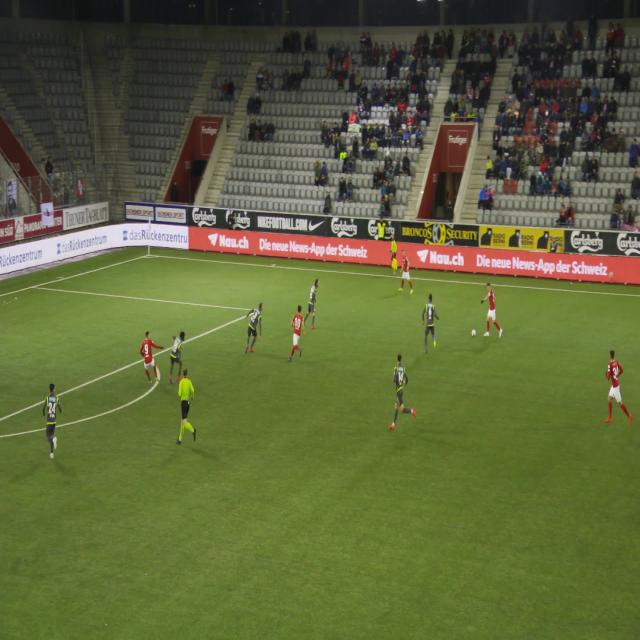Ball: (471, 324, 477, 344)
Player: (601, 343, 635, 436), (384, 352, 419, 439), (39, 375, 67, 466), (134, 328, 162, 388), (478, 281, 504, 345), (243, 294, 266, 366), (300, 273, 325, 334), (286, 302, 307, 374), (421, 282, 440, 356), (167, 318, 186, 386), (396, 240, 413, 302)
Referee: (175, 362, 201, 456), (387, 229, 401, 276)
